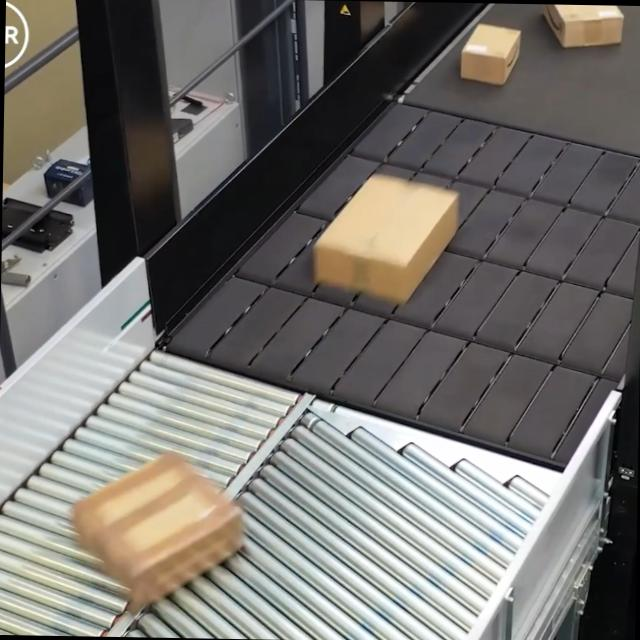box: (80, 449, 248, 604), (315, 174, 462, 300), (461, 20, 520, 86), (544, 4, 622, 51)
